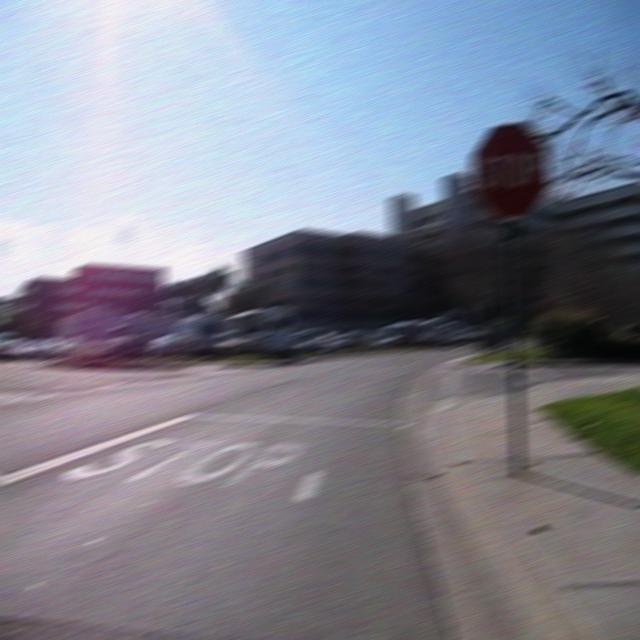stop_sign: (469, 121, 552, 218)
